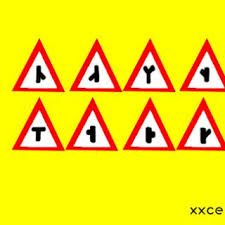Fork_road: (6, 93, 69, 152), (9, 36, 66, 93), (70, 38, 125, 94), (124, 95, 176, 150), (128, 38, 177, 95), (175, 94, 225, 149), (181, 37, 225, 94), (72, 95, 116, 150)
